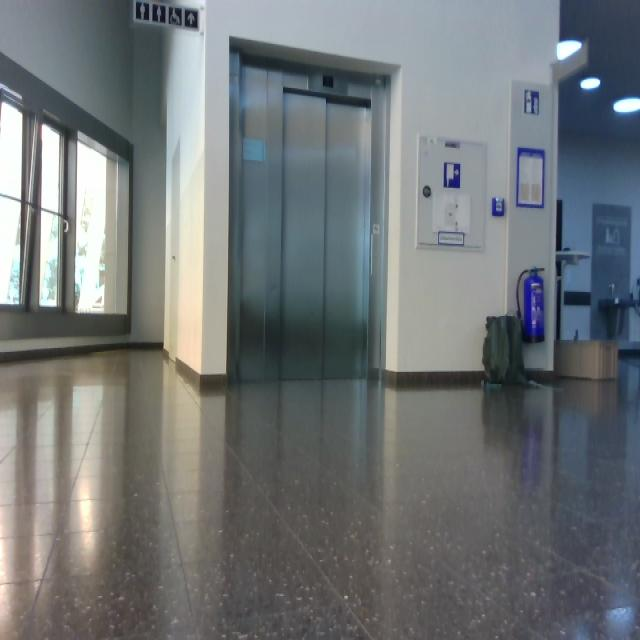door: (229, 52, 391, 384), (280, 88, 372, 381)
fire extinguisher: (517, 266, 545, 344)
light bulb: (556, 40, 582, 61), (613, 97, 640, 114), (580, 77, 601, 90)
tiled floor: (2, 345, 639, 638)
window: (1, 80, 133, 336)
